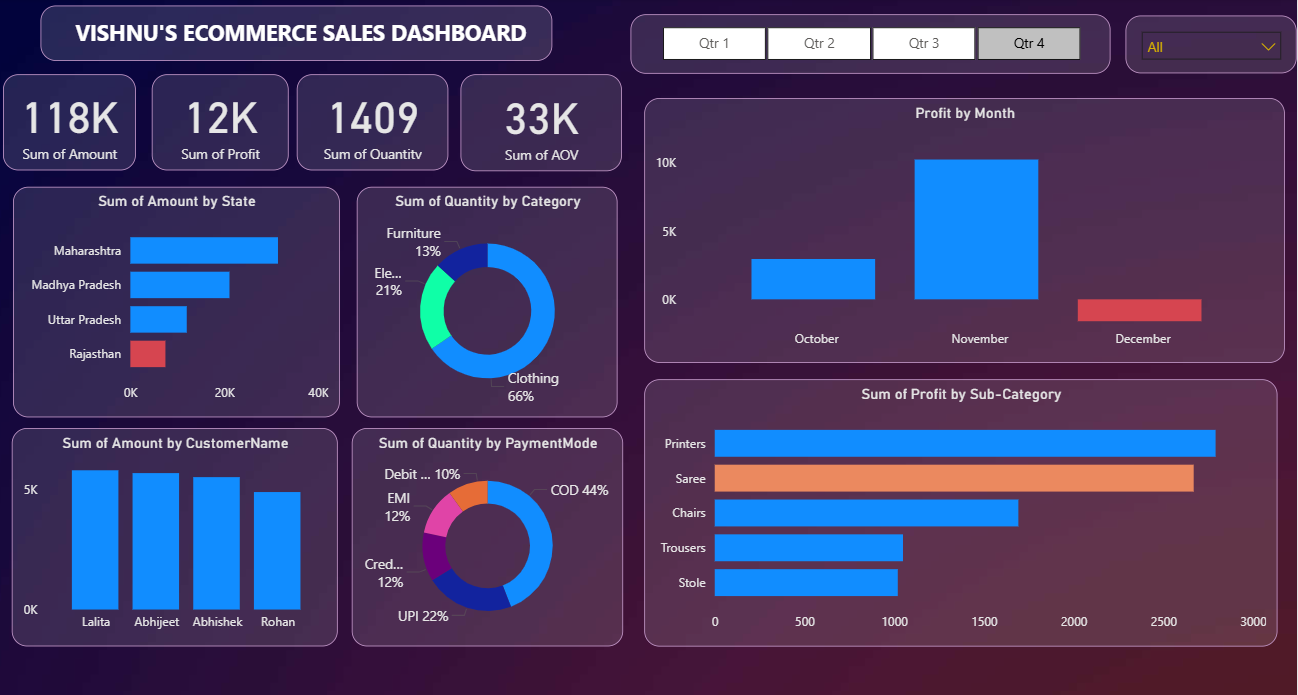

Layout of this report page (visuals, bound fields, positions):
{"tool":"powerbi","page":{"name":"Page 1","canvas":[1280,720],"ordinal":0},"visuals":[{"type":"textbox","box":[46.9,7.1,502,54.1],"z":0},{"type":"columnChart","title":"Profit by Month","fields":{"Category":["Orders.Order Date.Variation.Date Hierarchy.Month"],"Y":["Sum(Details.Profit)"]},"box":[639.8,98,628.6,260.2],"z":1000},{"type":"barChart","fields":{"Category":["Details.Sub-Category"],"Y":["Sum(Details.Profit)"]},"box":[639.8,374.5,621.4,262.2],"z":2000},{"type":"donutChart","fields":{"Category":["Details.Category"],"Y":["Sum(Details.Quantity)"]},"box":[357.1,184.7,256.1,226.5],"z":3000},{"type":"donutChart","fields":{"Category":["Details.PaymentMode"],"Y":["Sum(Details.Quantity)"]},"box":[352,422.4,266.3,214.3],"z":4000},{"type":"card","fields":{"Values":["Sum(Details.Amount)"]},"box":[10,74.3,130.6,94.4],"z":5000},{"type":"card","fields":{"Values":["Sum(Details.Quantity)"]},"box":[298.4,74.3,148.7,94.4],"z":6000},{"type":"card","fields":{"Values":["Sum(Details.Profit)"]},"box":[155.7,74.3,134.6,94.4],"z":7000},{"type":"card","fields":{"Values":["Sum(Details.AOV)"]},"box":[459.2,74.3,158.7,95.4],"z":8000},{"type":"barChart","fields":{"Category":["Orders.State"],"Y":["Sum(Details.Amount)"]},"box":[19.4,184.7,320.4,226.5],"z":9000},{"type":"columnChart","fields":{"Category":["Orders.CustomerName"],"Y":["Sum(Details.Amount)"]},"box":[19,422,320,214],"z":10000},{"type":"slicer","fields":{"Values":["Orders.Order Date.Variation.Date Hierarchy.Quarter"]},"box":[625.5,16.3,471.4,58.2],"z":11000},{"type":"slicer","fields":{"Values":["Orders.State"]},"box":[1111.2,17.3,168.4,57.1],"z":12000}]}

Visuals, with their boxes in screenshot pixels (x1, y1, x2, y2):
textbox: [left=35, top=0, right=549, bottom=19]
"Profit by Month" columnChart: [left=642, top=57, right=1287, bottom=323]
barChart - Details.Sub-Category x Sum(Details.Profit): [left=642, top=340, right=1279, bottom=609]
donutChart - Details.Category x Sum(Details.Quantity): [left=353, top=145, right=615, bottom=378]
donutChart - Details.PaymentMode x Sum(Details.Quantity): [left=347, top=389, right=620, bottom=609]
card - Sum(Details.Amount): [left=0, top=32, right=131, bottom=129]
card - Sum(Details.Quantity): [left=292, top=32, right=445, bottom=129]
card - Sum(Details.Profit): [left=146, top=32, right=284, bottom=129]
card - Sum(Details.AOV): [left=457, top=32, right=620, bottom=130]
barChart - Orders.State x Sum(Details.Amount): [left=6, top=145, right=335, bottom=378]
columnChart - Orders.CustomerName x Sum(Details.Amount): [left=6, top=389, right=334, bottom=608]
slicer - Orders.Order Date.Variation.Date Hierarchy.Quarter: [left=628, top=0, right=1111, bottom=32]
slicer - Orders.State: [left=1126, top=0, right=1297, bottom=32]
